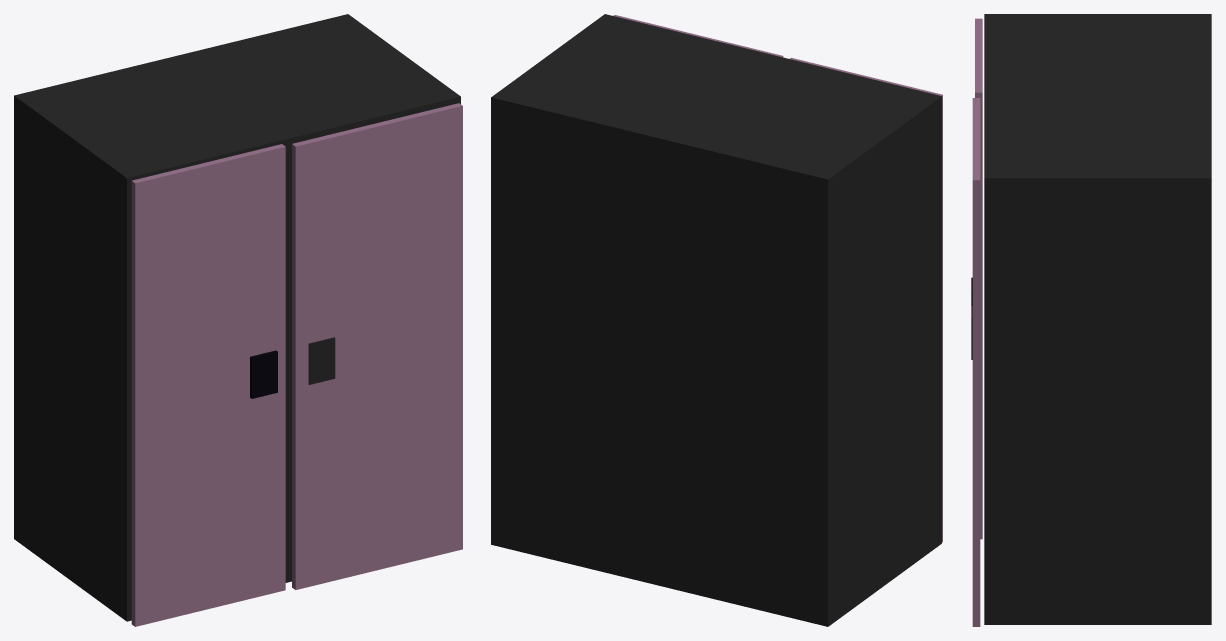
3 renders of one model, left to right at view 1: azimuth 30°, elevation 25°; view 2: azimuth 150°, elevation 25°; view 3: azimuth 270°, elevation 25°, orthographic.
Parts seen in each view (by area): view 1: CabinetBody, RightDoor, LeftDoor, LeftHandle, RightHandle; view 2: CabinetBody, LeftDoor; view 3: CabinetBody, RightDoor, LeftDoor.
Boxes of the visible parts, x1,y1,x2,y2 form: CabinetBody: [14, 14, 460, 621]; RightDoor: [292, 103, 462, 589]; LeftDoor: [131, 144, 285, 626]; LeftHandle: [250, 350, 277, 398]; RightHandle: [308, 337, 335, 384]; CabinetBody: [491, 14, 941, 626]; LeftDoor: [790, 57, 942, 542]; CabinetBody: [984, 14, 1211, 624]; RightDoor: [972, 98, 980, 626]; LeftDoor: [975, 18, 982, 539].
Size of the model in its own units: 10.25 by 13.12 by 6.34.
